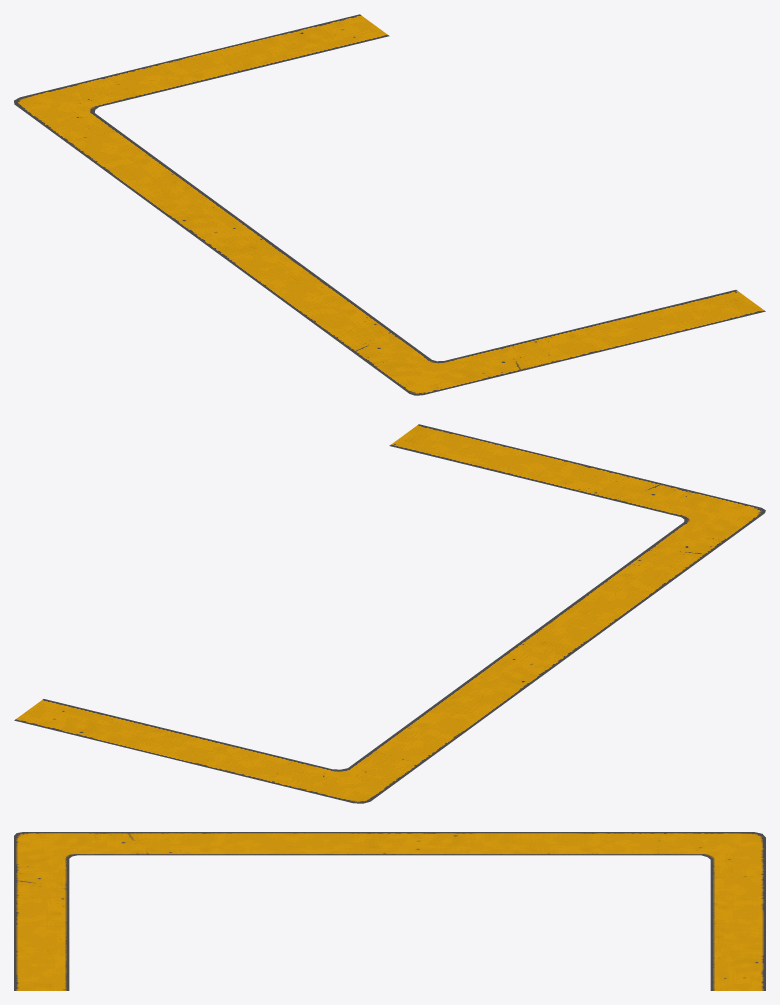
The model's file is SM_FloorDecal_Quad2x003.FBX.
The picture shows the model from 3 angles, top to bottom: view 1: azimuth 30°, elevation 25°; view 2: azimuth 150°, elevation 25°; view 3: azimuth 270°, elevation 25°; orthographic projection. The views are drawn at different scales.
Visible parts, largest first — view 1: SM_FloorDecal_Quad2x003; view 2: SM_FloorDecal_Quad2x003; view 3: SM_FloorDecal_Quad2x003.
Part boxes in pixels (x1,y1,x2,y2): SM_FloorDecal_Quad2x003: (14,14,765,395); SM_FloorDecal_Quad2x003: (14,424,765,803); SM_FloorDecal_Quad2x003: (14,832,765,990).
Bounding box in the file's own units: 108 × 215 × 3.64e-12.
